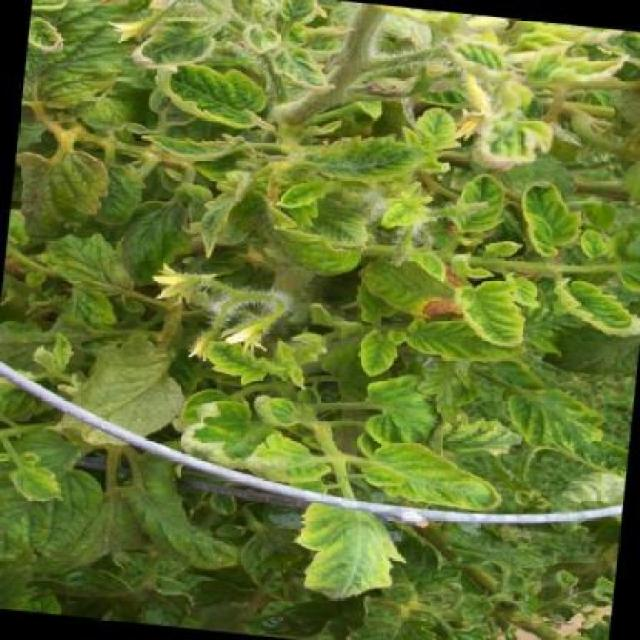Healthy Leaf: (285, 478, 409, 612), (273, 114, 449, 194), (350, 434, 507, 512), (139, 48, 272, 132), (436, 258, 546, 353), (265, 184, 372, 256), (236, 432, 346, 496), (508, 175, 582, 262), (0, 430, 74, 508), (401, 99, 464, 172), (199, 336, 290, 384), (452, 166, 512, 237), (346, 314, 405, 381)
